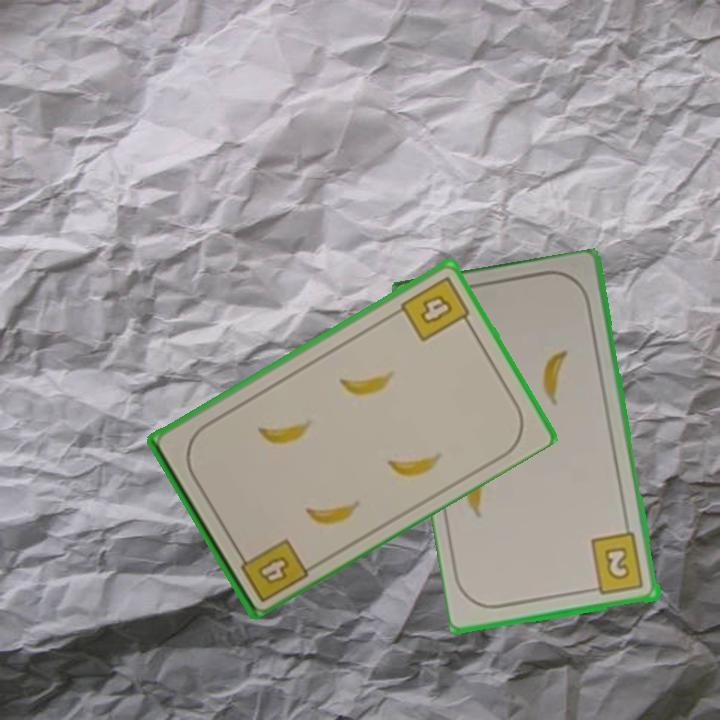2b: (586, 530, 647, 598)
4b: (396, 272, 475, 345), (233, 533, 311, 605)
